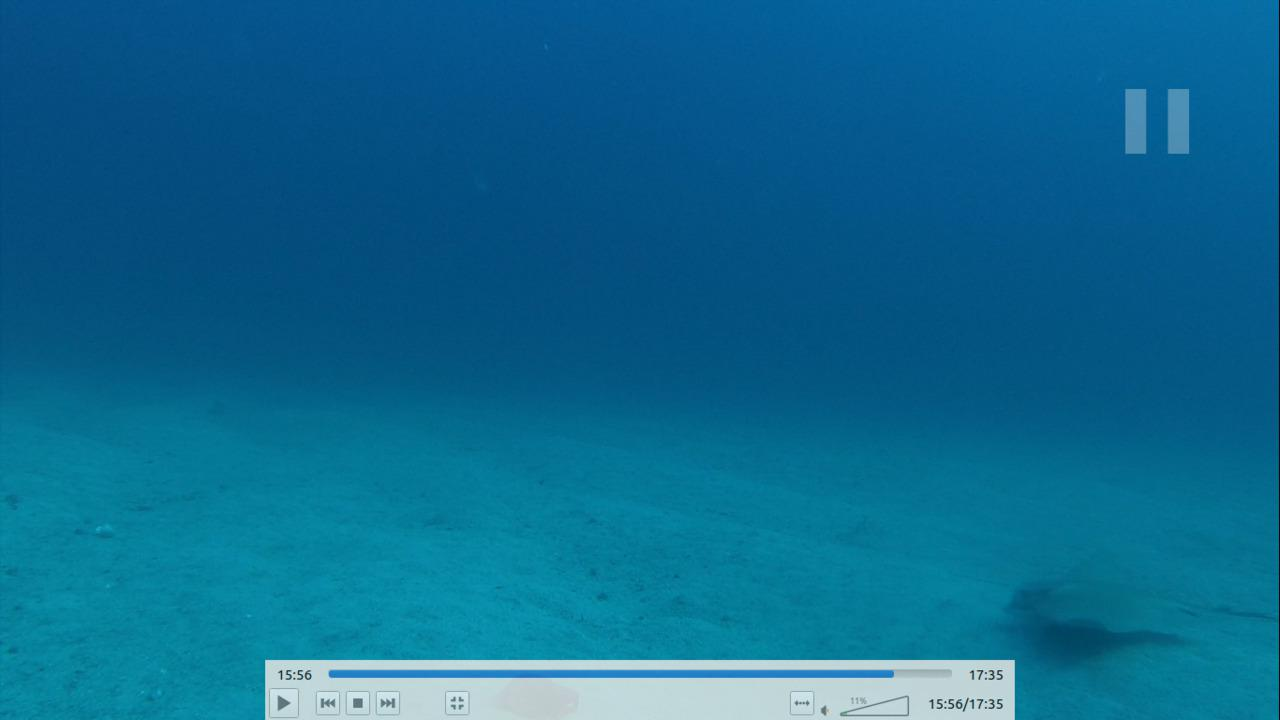myliobatis: (989, 556, 1275, 643)
